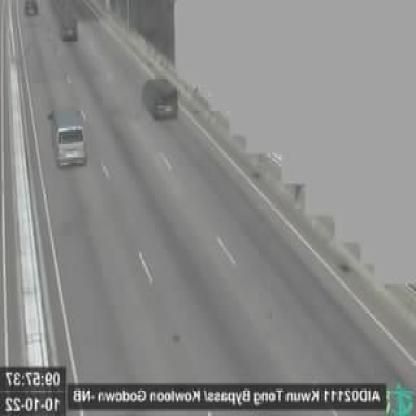Car: (48, 105, 86, 169), (142, 75, 178, 120), (61, 22, 76, 41), (24, 0, 39, 14)
